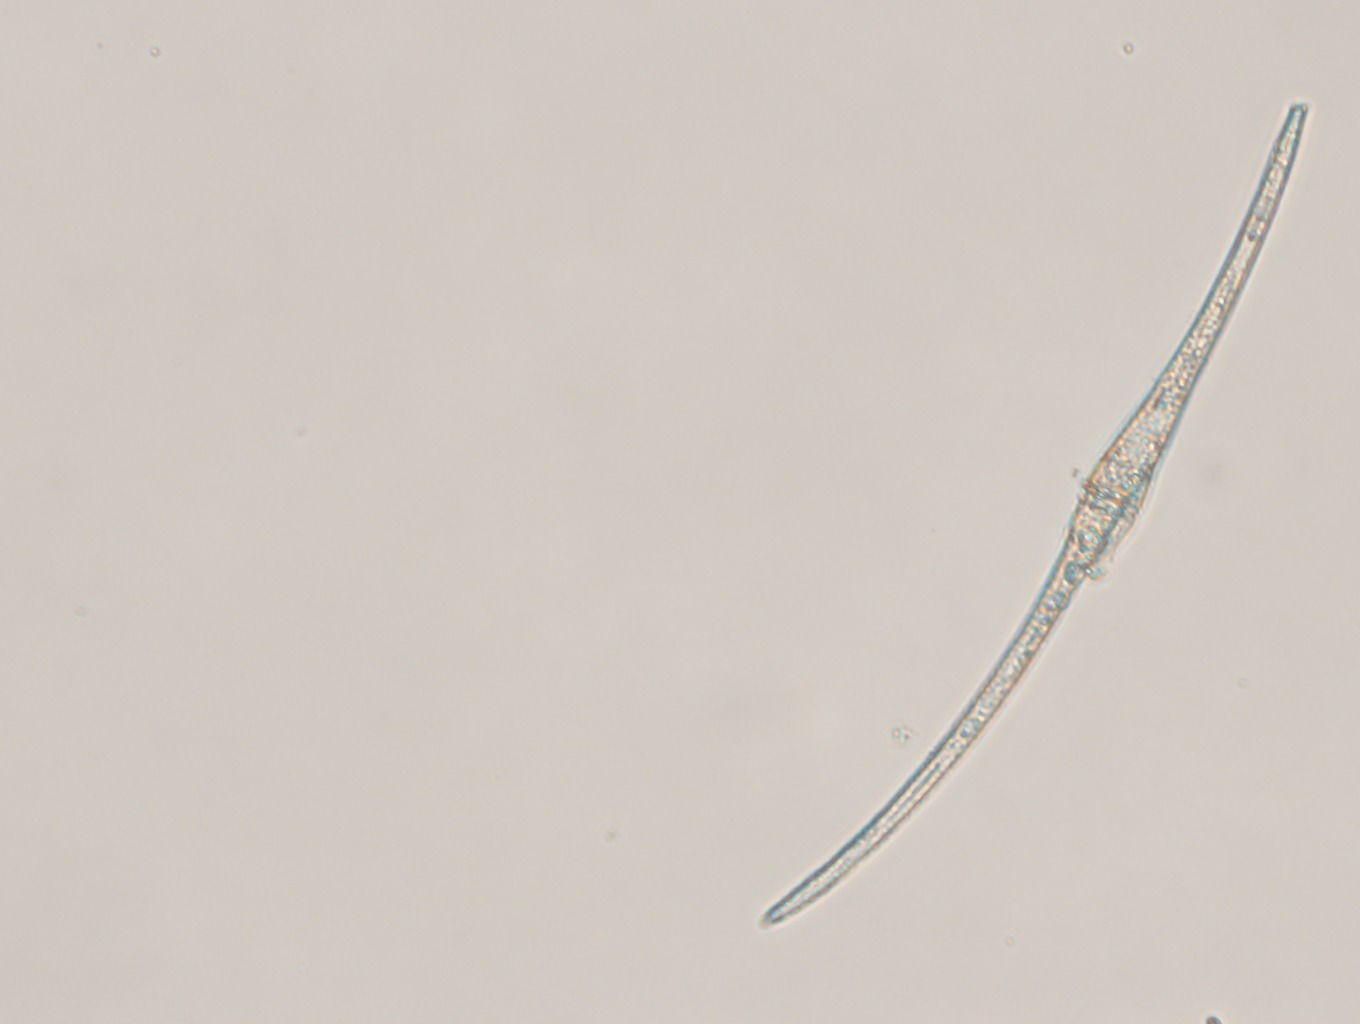ceratium fusus: (751, 94, 1314, 928)
